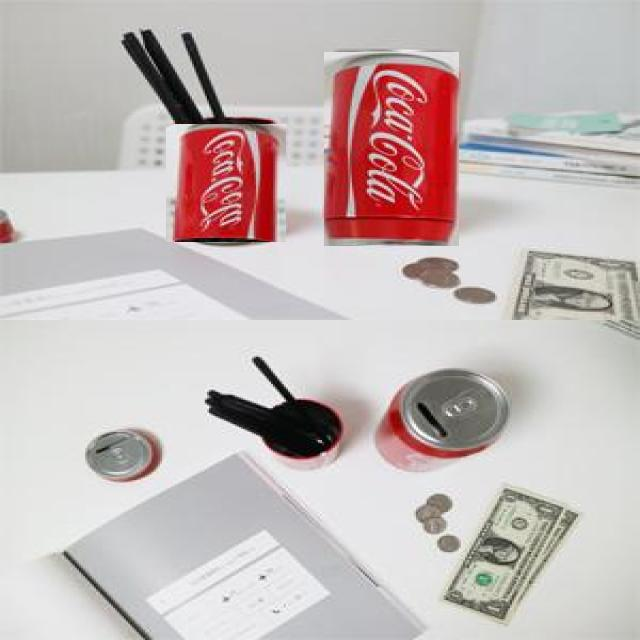coca-cola: (324, 52, 459, 246), (166, 124, 286, 242)
